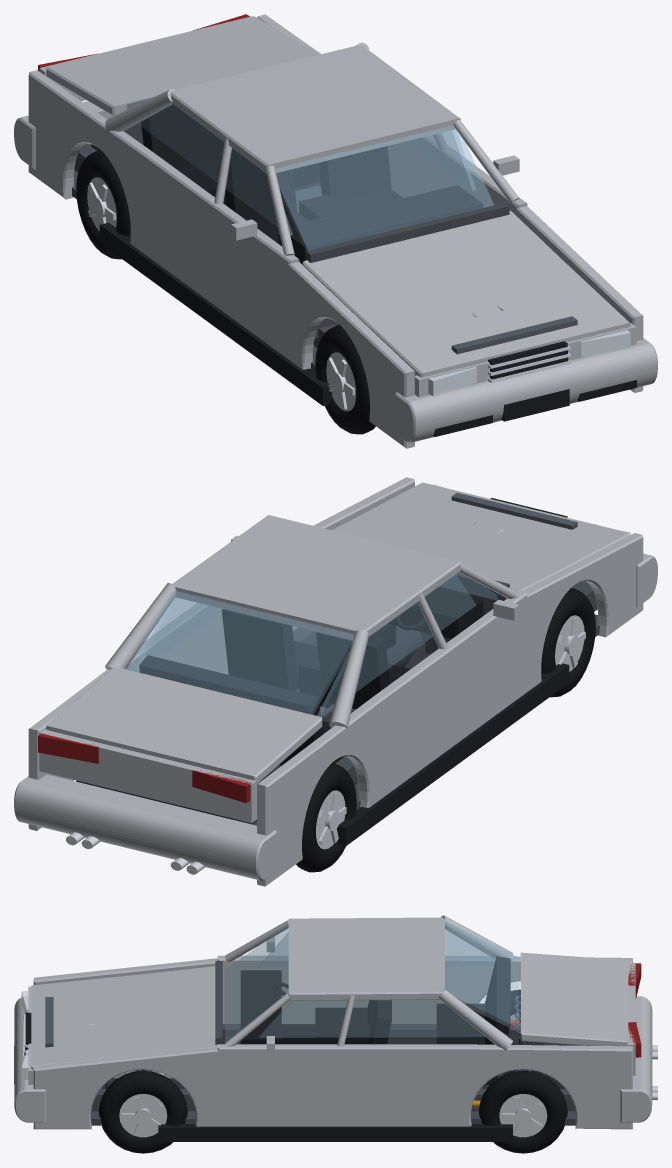
File: vehicle.glb
3 renders of one model, top to bottom at view 1: azimuth 30°, elevation 25°; view 2: azimuth 150°, elevation 25°; view 3: azimuth 270°, elevation 25°, orthographic. The views are drawn at different scales.
Visible parts, largest first — view 1: Body_Hood, Body_Roof, Body_Windshield_Front, Body_TrunkLid, Body_Bumper_Front, Body_QuarterPanel_L, Body_Door_FL, Body_Door_RL, Body_Fender_FL, Body_InteriorDash, Body_Sill_L, Body_Glass_Side_L (+22 smaller); view 2: Body_Roof, Body_TrunkLid, Body_Windshield_Rear, Body_Hood, Body_Bumper_Rear, Body_QuarterPanel_L, Body_Door_FL, Body_Door_RL, Body_TailPanel, Body_Fender_FL, Body_Sill_L, Body_InteriorSeat_FR (+22 smaller); view 3: Body_Hood, Body_Roof, Body_Door_FR, Body_TrunkLid, Body_QuarterPanel_R, Body_Door_RR, Body_Fender_FR, Body_Glass_Side_R, Body_Sill_R, Body_Windshield_Rear, Body_Windshield_Front, Body_InteriorDash (+22 smaller).
Part boxes in pixels (x1=…): Body_Hood: x1=302, y1=210, x2=630, y2=377; Body_Roof: x1=170, y1=45, x2=460, y2=173; Body_Windshield_Front: x1=275, y1=125, x2=493, y2=250; Body_TrunkLid: x1=46, y1=16, x2=318, y2=115; Body_Bumper_Front: x1=395, y1=338, x2=657, y2=442; Body_QuarterPanel_L: x1=28, y1=70, x2=150, y2=250; Body_Door_FL: x1=212, y1=203, x2=299, y2=358; Body_Door_RL: x1=140, y1=149, x2=214, y2=303; Body_Fender_FL: x1=288, y1=261, x2=414, y2=448; Body_InteriorDash: x1=279, y1=185, x2=483, y2=264; Body_Sill_L: x1=99, y1=222, x2=331, y2=405; Body_Glass_Side_L: x1=138, y1=104, x2=292, y2=235; Body_Roof: x1=172, y1=515, x2=460, y2=639; Body_TrunkLid: x1=46, y1=666, x2=322, y2=783; Body_Windshield_Rear: x1=127, y1=591, x2=354, y2=714; Body_Hood: x1=332, y1=482, x2=629, y2=598; Body_Bumper_Rear: x1=14, y1=774, x2=276, y2=880; Body_QuarterPanel_L: x1=257, y1=698, x2=379, y2=886; Body_Door_FL: x1=446, y1=590, x2=527, y2=746; Body_Door_RL: x1=370, y1=648, x2=451, y2=799; Body_TailPanel: x1=39, y1=729, x2=256, y2=822; Body_Fender_FL: x1=523, y1=533, x2=643, y2=691; Body_Sill_L: x1=337, y1=663, x2=569, y2=845; Body_InteriorSeat_FR: x1=221, y1=609, x2=317, y2=690; Body_Hood: x1=31, y1=966, x2=217, y2=1069; Body_Roof: x1=288, y1=917, x2=445, y2=1000; Body_Door_FR: x1=217, y1=1044, x2=340, y2=1126; Body_TrunkLid: x1=520, y1=952, x2=628, y2=1046; Body_QuarterPanel_R: x1=452, y1=1044, x2=632, y2=1129; Body_Door_RR: x1=339, y1=1044, x2=454, y2=1126; Body_Fender_FR: x1=33, y1=1046, x2=218, y2=1129; Body_Glass_Side_R: x1=258, y1=1000, x2=507, y2=1037; Body_Sill_R: x1=158, y1=1124, x2=512, y2=1141; Body_Windshield_Rear: x1=446, y1=922, x2=519, y2=1032; Body_Windshield_Front: x1=225, y1=925, x2=288, y2=1042; Body_InteriorDash: x1=240, y1=970, x2=369, y2=1044.
Size of the model in its own units: 2.16 by 1.46 by 5.36.
